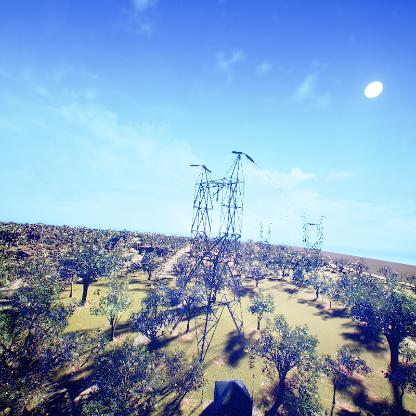tower: (180, 148, 255, 355)
